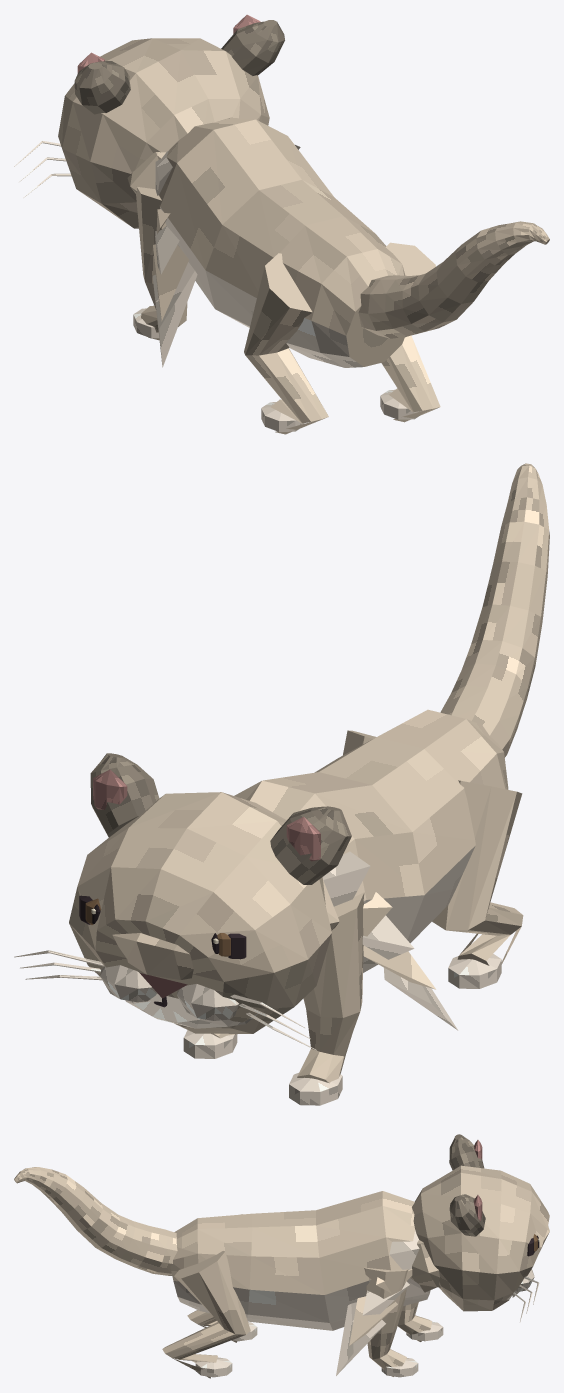
Rendered from mon_cat_persian_kitten.glb.
3 renders of one model, top to bottom at view 1: azimuth 30°, elevation 25°; view 2: azimuth 150°, elevation 25°; view 3: azimuth 270°, elevation 25°, orthographic. The views are drawn at different scales.
Parts seen in each view (by area): view 1: closed_body; view 2: closed_body; view 3: closed_body.
Part boxes in pixels (left/top/right/bottom): closed_body: left=14, top=14, right=549, bottom=434; closed_body: left=14, top=463, right=549, bottom=1105; closed_body: left=14, top=1134, right=549, bottom=1378.
Size of the model in its own units: 0.1174 by 0.1387 by 0.3201.
Materials: 1 (1 with a texture image).
